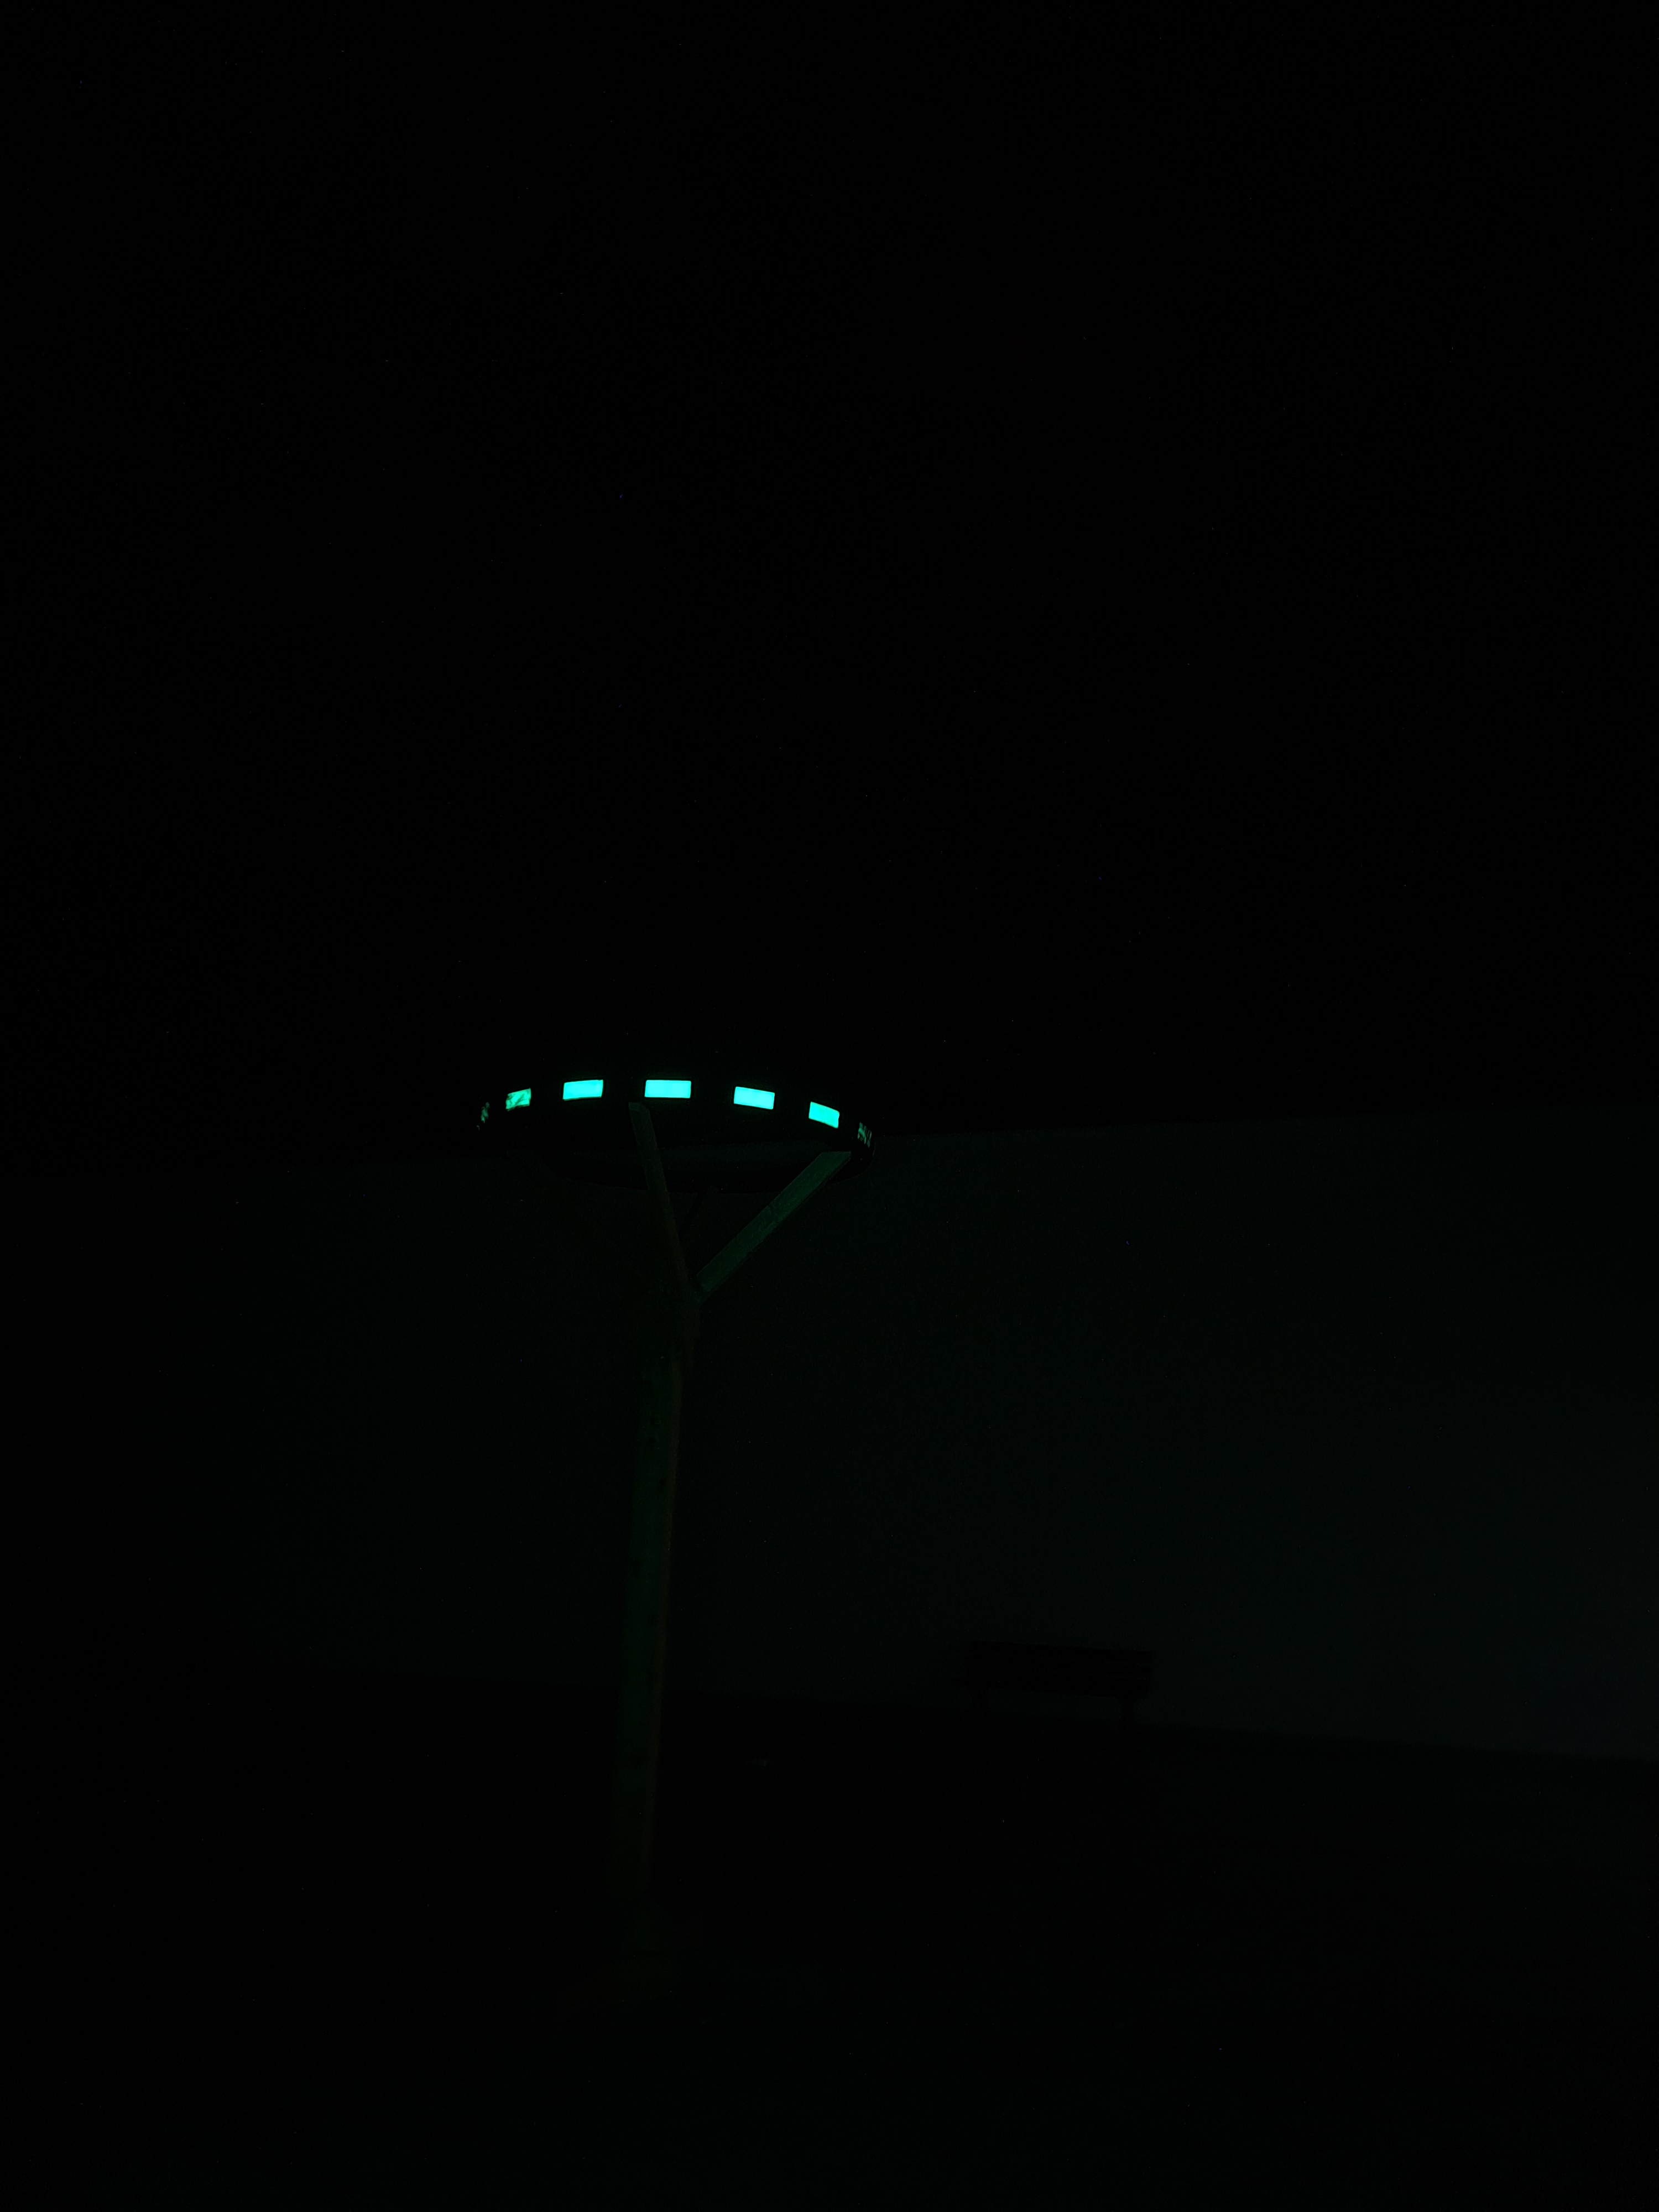hoop: (477, 1076, 875, 1155)
